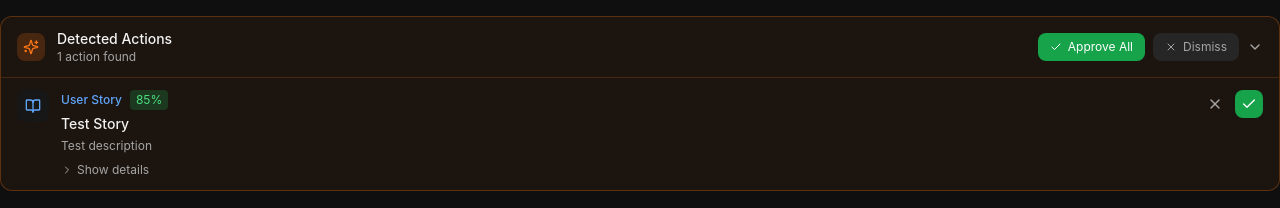
ActionConfirmation › Expand/Collapse Functionality › should collapse when header is clicked
expect the text "Detected Actions" is shown: met, box [57, 30, 172, 47]
Click the text "Detected Actions" at (115, 47), box [57, 29, 172, 65]
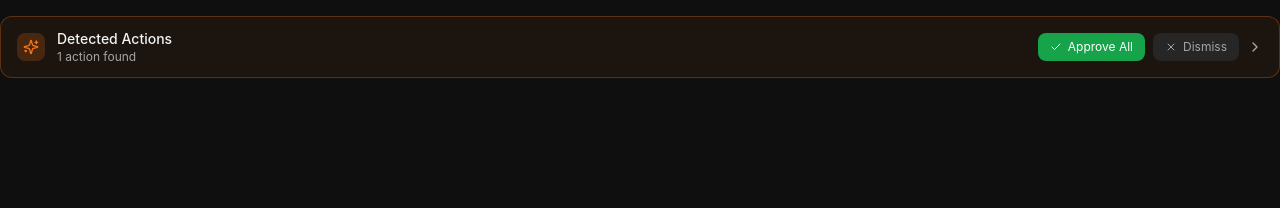
expect the heading "Test Story" is gone: met
